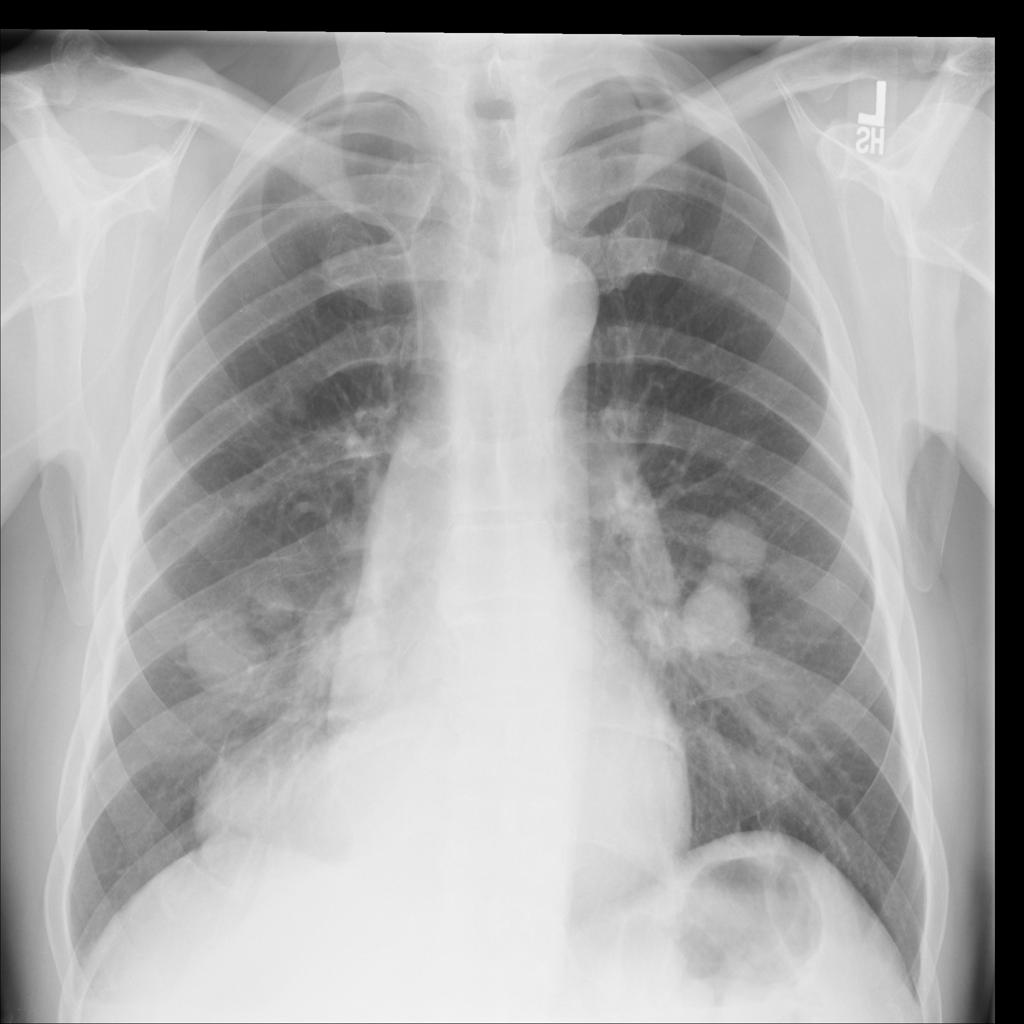nodule: (170, 600, 293, 719), (298, 602, 410, 722), (660, 569, 764, 667), (692, 501, 778, 584), (238, 564, 308, 638), (260, 364, 327, 436), (654, 196, 699, 253)
